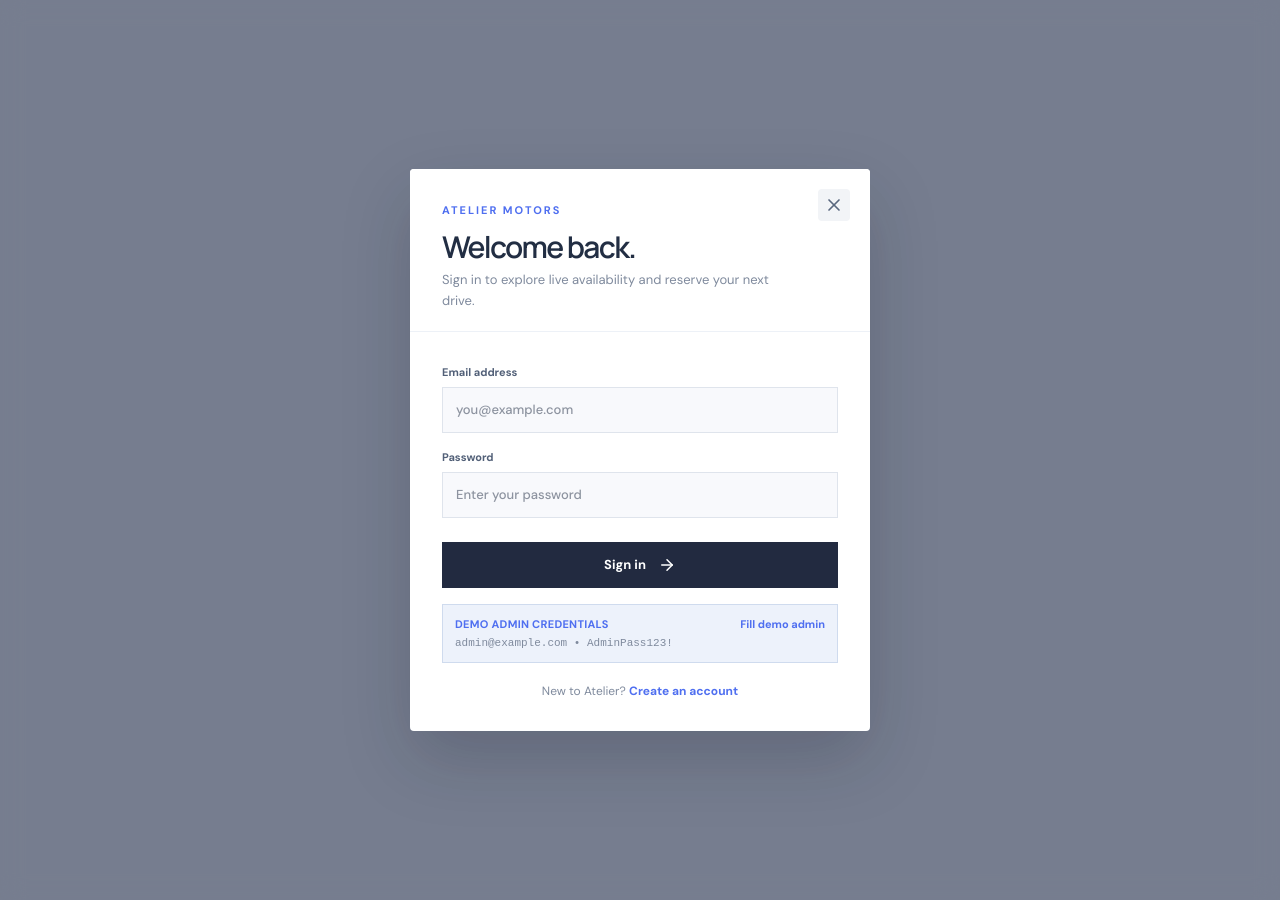
Test: AuthDialog › shows the API error when login fails
Type "ada@example.com" into the field labelled "Email address". click: (640, 410)
box: [442,388,838,433]
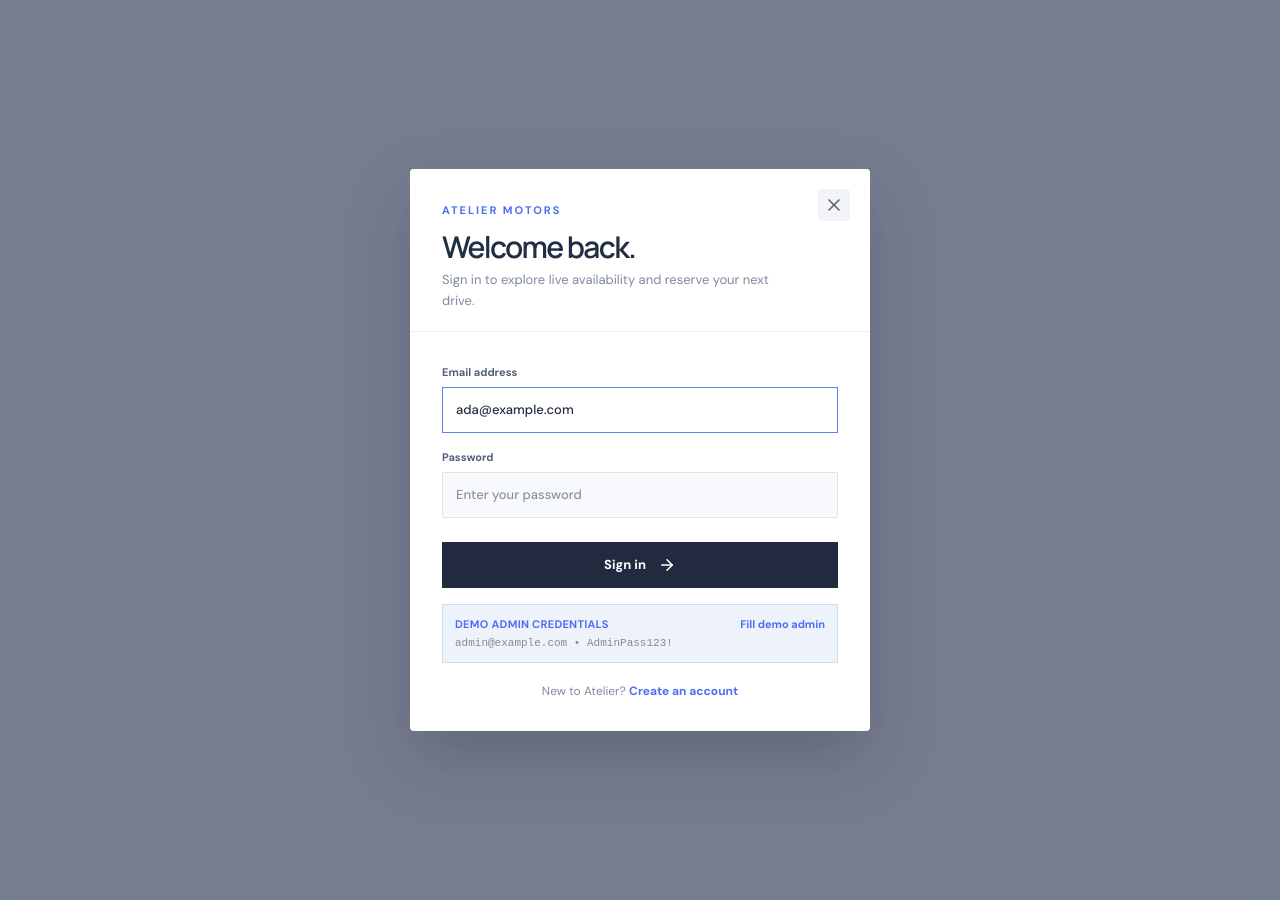
Type "wrong-password" into the password field labelled "Password". click: (640, 495)
box: [442,472,838,518]
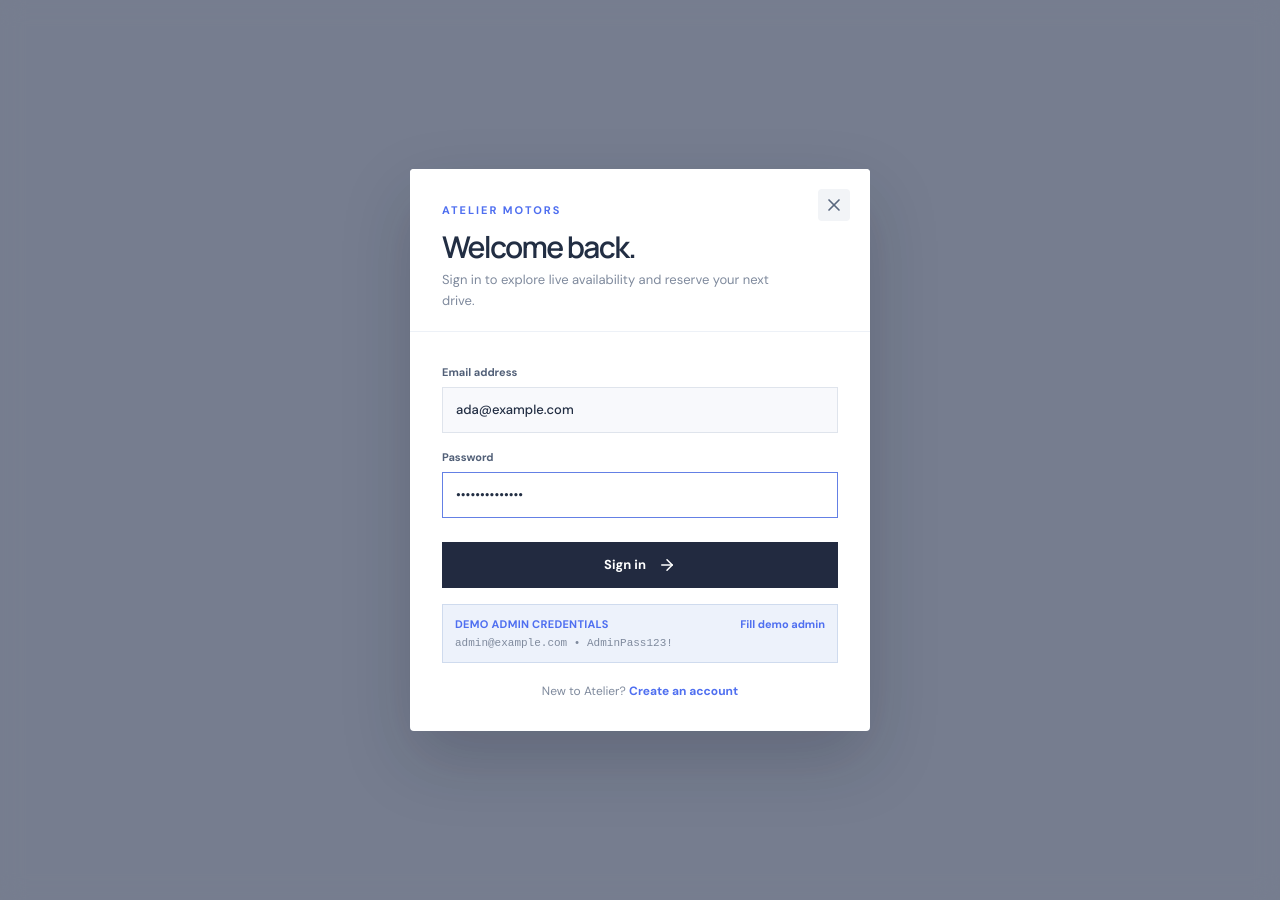
Click the button "Sign in". click: (640, 565)
box: [442,542,838,588]
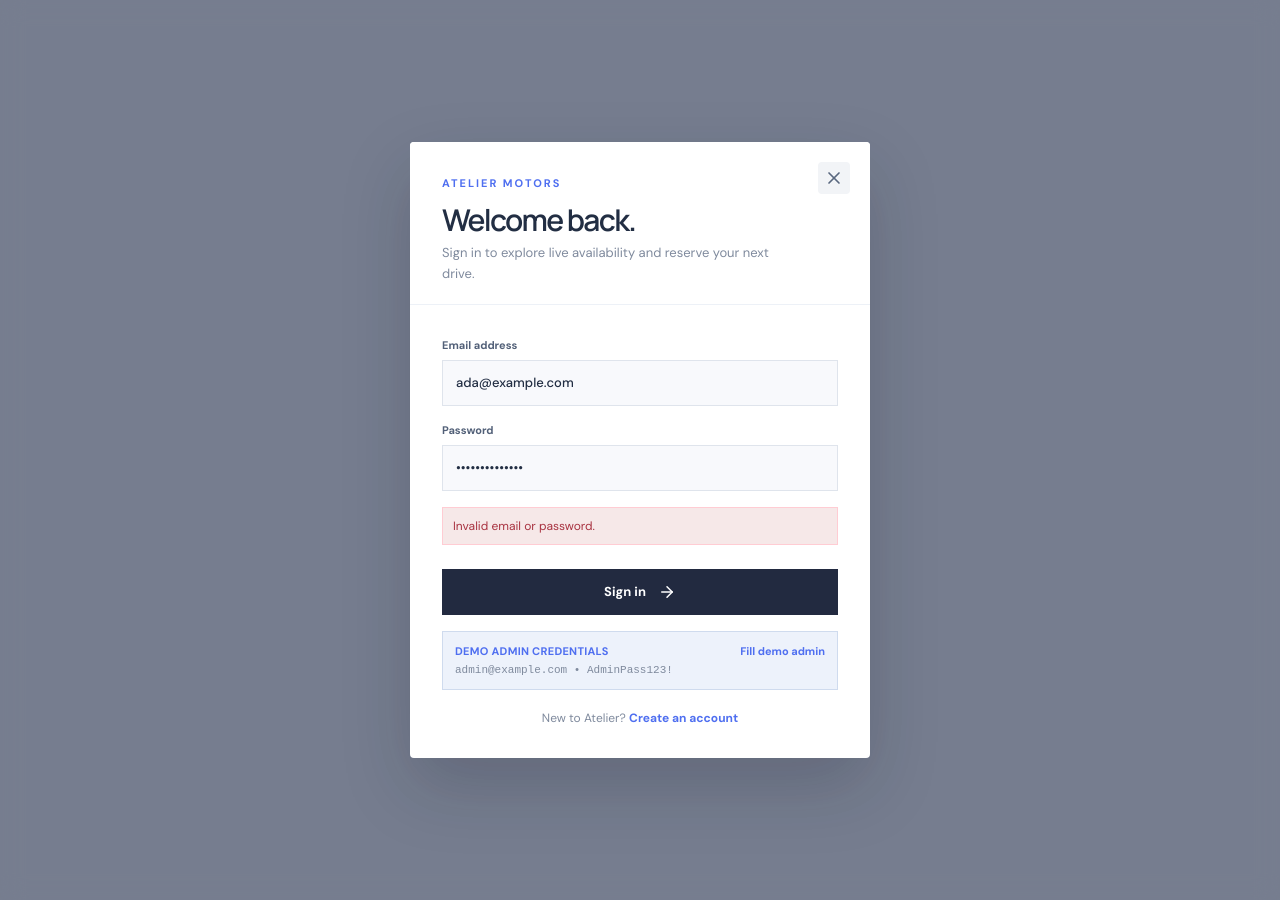
expect the message reads "Invalid email or password.": met, box [453,518,595,534]
